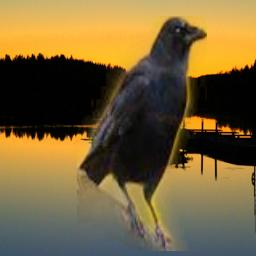Crow: (77, 16, 207, 251)
